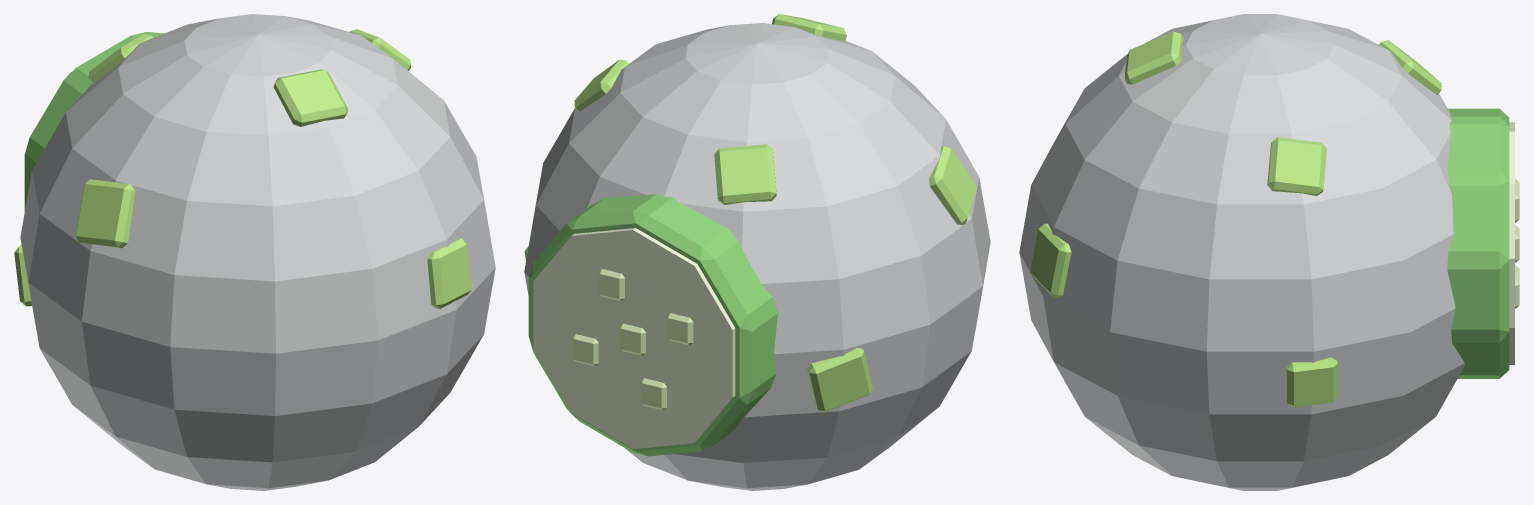
File: SnowSnowballSlice.fbx
3 renders of one model, left to right at view 1: azimuth 30°, elevation 25°; view 2: azimuth 150°, elevation 25°; view 3: azimuth 270°, elevation 25°, orthographic. The views are drawn at different scales.
Parts seen in each view (by area): view 1: SnowSnowballSlice.Ball, SnowSnowballSlice.Studs, SnowSnowballSlice.Rim; view 2: SnowSnowballSlice.Ball, SnowSnowballSlice.Face, SnowSnowballSlice.Rim, SnowSnowballSlice.Studs, SnowSnowballSlice.Seeds; view 3: SnowSnowballSlice.Ball, SnowSnowballSlice.Rim, SnowSnowballSlice.Studs, SnowSnowballSlice.Face, SnowSnowballSlice.Seeds.
Boxes of the visible parts, <box> form: SnowSnowballSlice.Ball: <box>20,14,495,490</box>; SnowSnowballSlice.Studs: <box>14,29,471,308</box>; SnowSnowballSlice.Rim: <box>24,32,164,211</box>; SnowSnowballSlice.Ball: <box>524,23,990,490</box>; SnowSnowballSlice.Face: <box>533,228,735,448</box>; SnowSnowballSlice.Rim: <box>528,194,777,456</box>; SnowSnowballSlice.Studs: <box>524,14,977,412</box>; SnowSnowballSlice.Seeds: <box>572,269,693,410</box>; SnowSnowballSlice.Ball: <box>1019,14,1464,490</box>; SnowSnowballSlice.Rim: <box>1447,108,1509,378</box>; SnowSnowballSlice.Studs: <box>1030,31,1441,407</box>; SnowSnowballSlice.Face: <box>1509,122,1514,364</box>; SnowSnowballSlice.Seeds: <box>1515,178,1519,308</box>.
Bounding box in the file's own units: 2.47 × 2.5 × 2.59.
